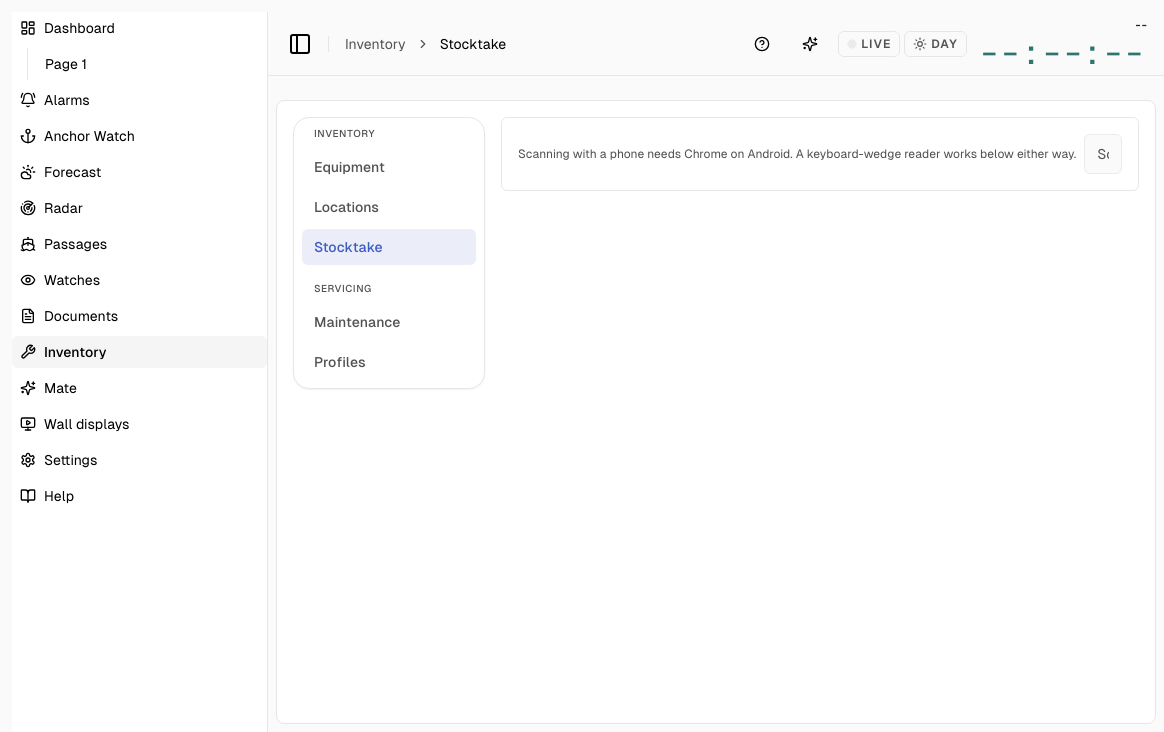
App: an update reload waits for inventory work › holds while a stocktake pass holds a confirmed scan
In the field labelled "Scan": (1103,154) [1084, 134, 1122, 174], type "https://boat.example/inventory/bins/LAZ-02"
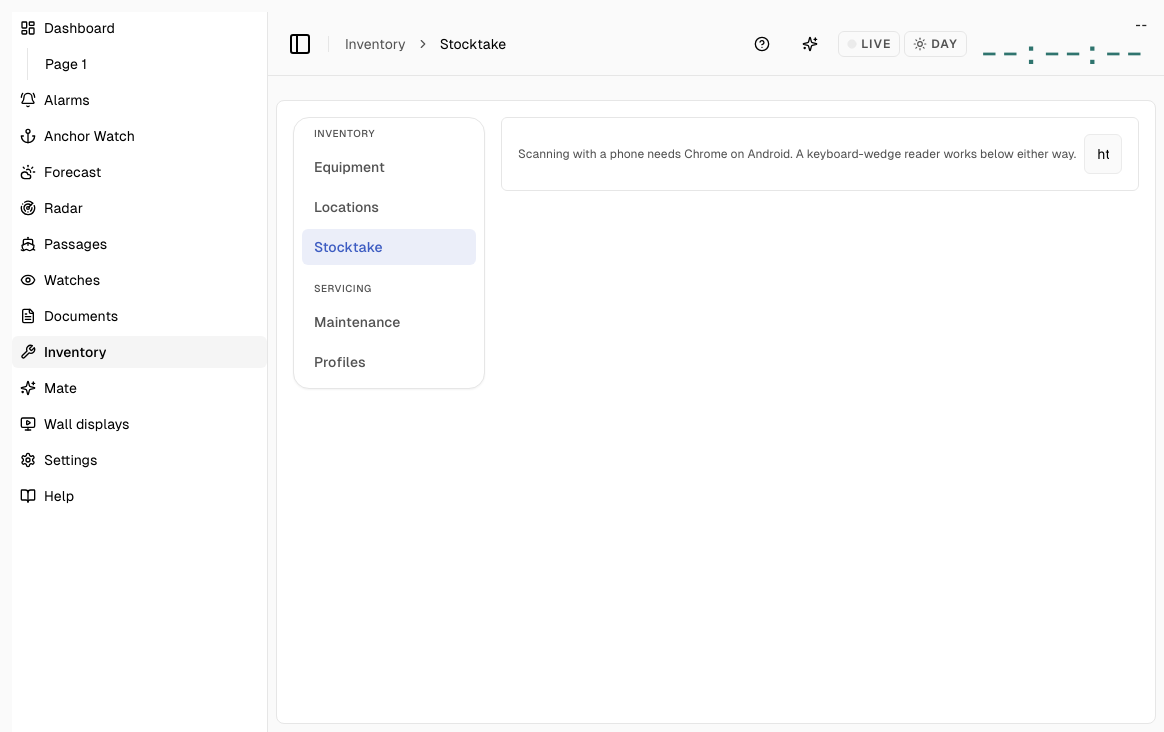
Press Enter in the field named "Scan", box [1084, 134, 1122, 174]
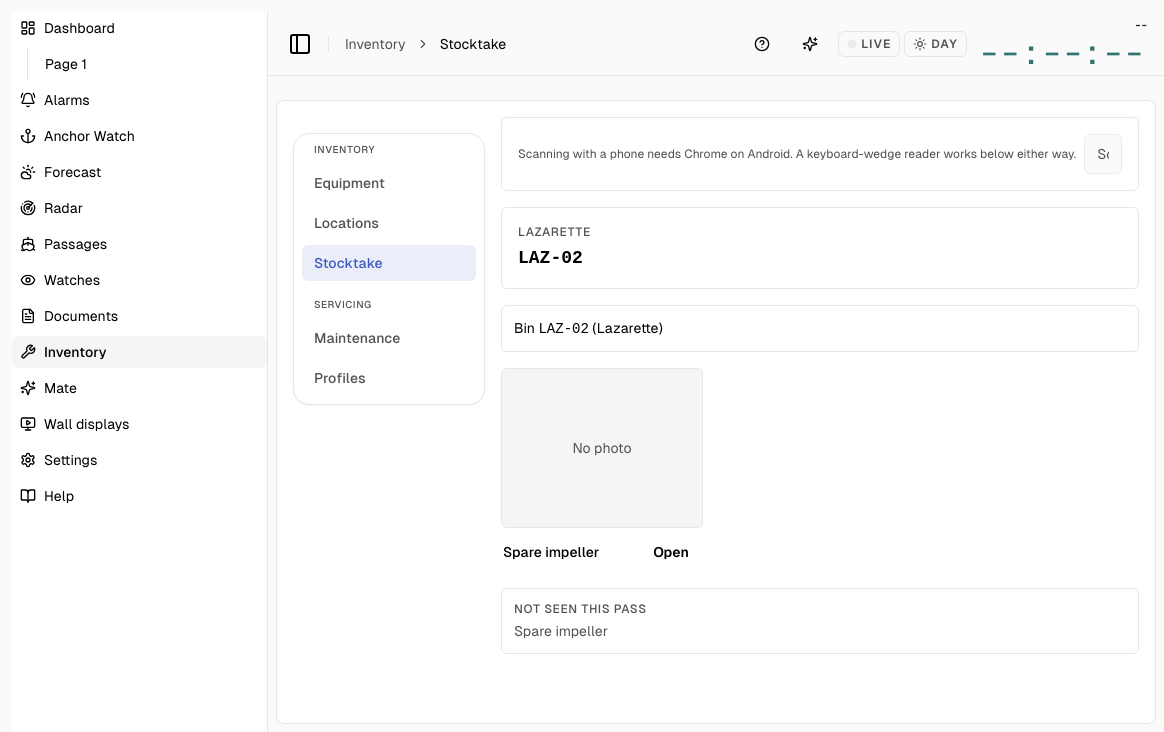
Expected: the heading "LAZ-02" is shown, [518, 248, 583, 268]
In the field labelled "Scan": (1103,154) [1084, 134, 1122, 174], type "https://boat.example/inventory/equipment/eq-1"
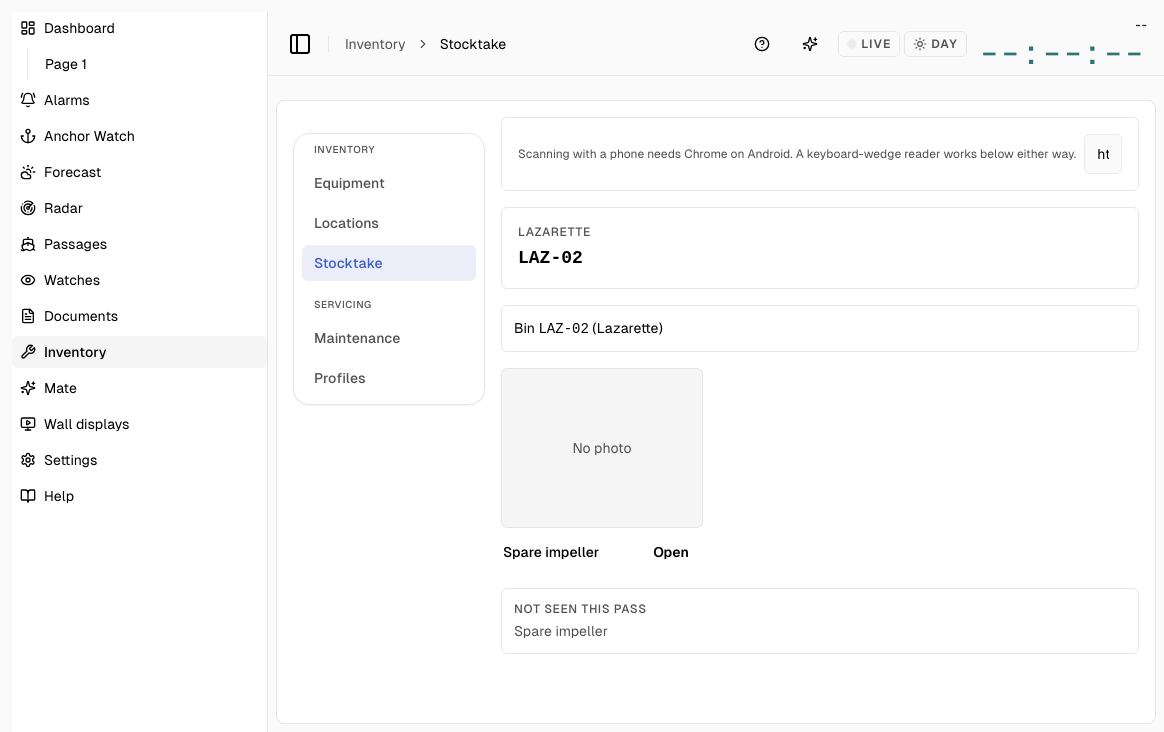
Press Enter in the field named "Scan", box [1084, 134, 1122, 174]
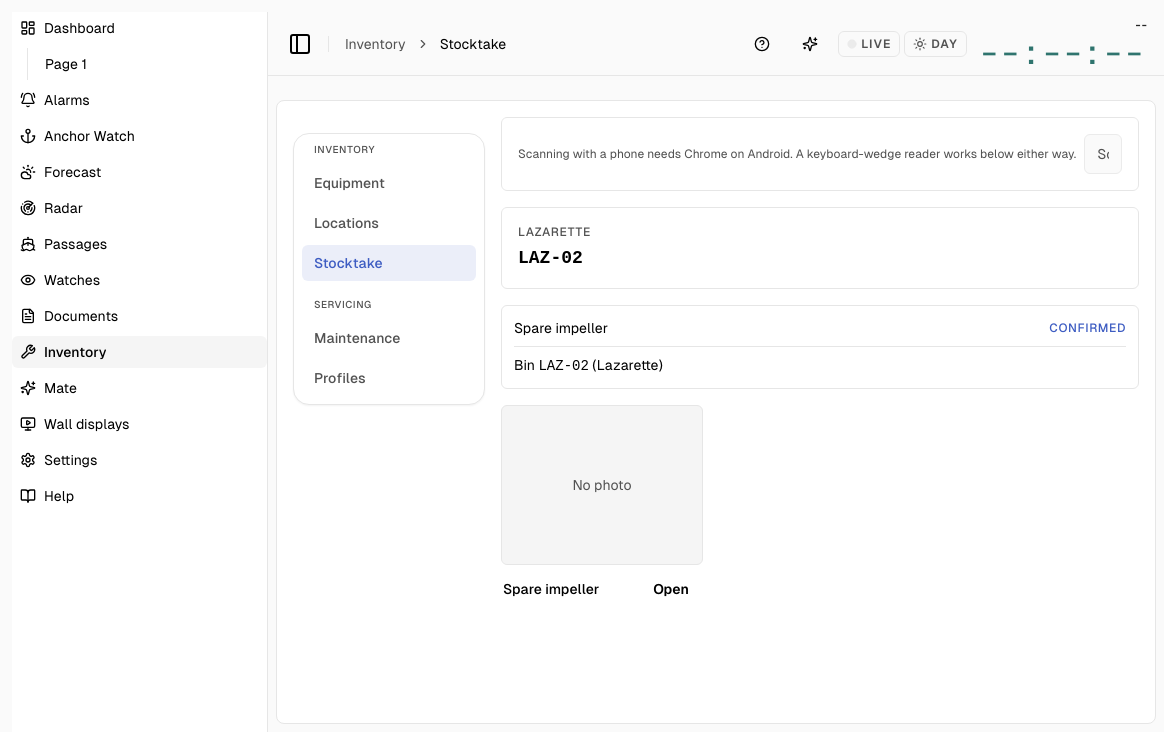
Expected: the text "Confirmed" is shown, [1049, 320, 1126, 336]
